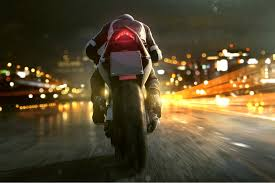motorcycle: (89, 33, 166, 170)
